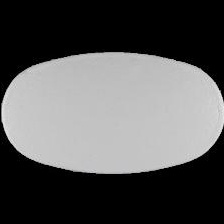0378-3951: (0, 0, 224, 224)
